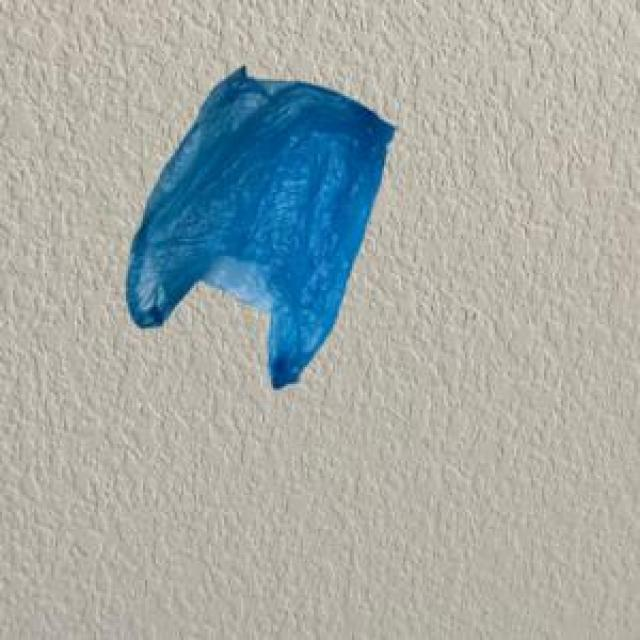waste: (126, 68, 394, 388)
